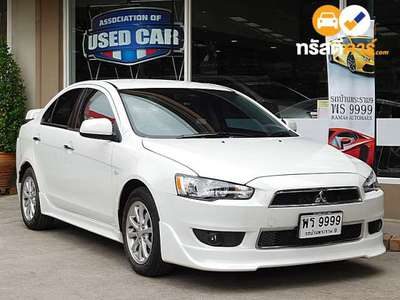sedan: (12, 76, 387, 278)
